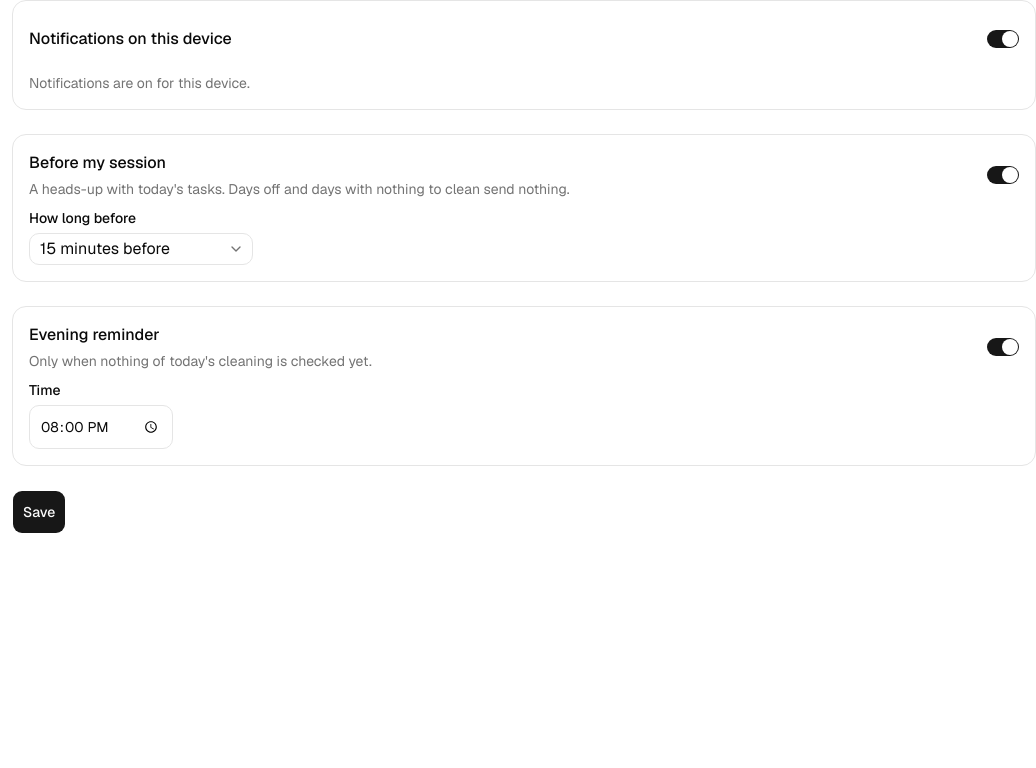
NotificationsPanel › AC7: turning off stops the browser subscription and the server's
This screenshot has width=1036, height=768.
Expected: the text "Notifications are on for this device." is shown, [29,74,250,92]
Click the switch named "Notifications on this device" in the row of "Notifications on this device" at (1003, 39), box [987,30,1019,48]
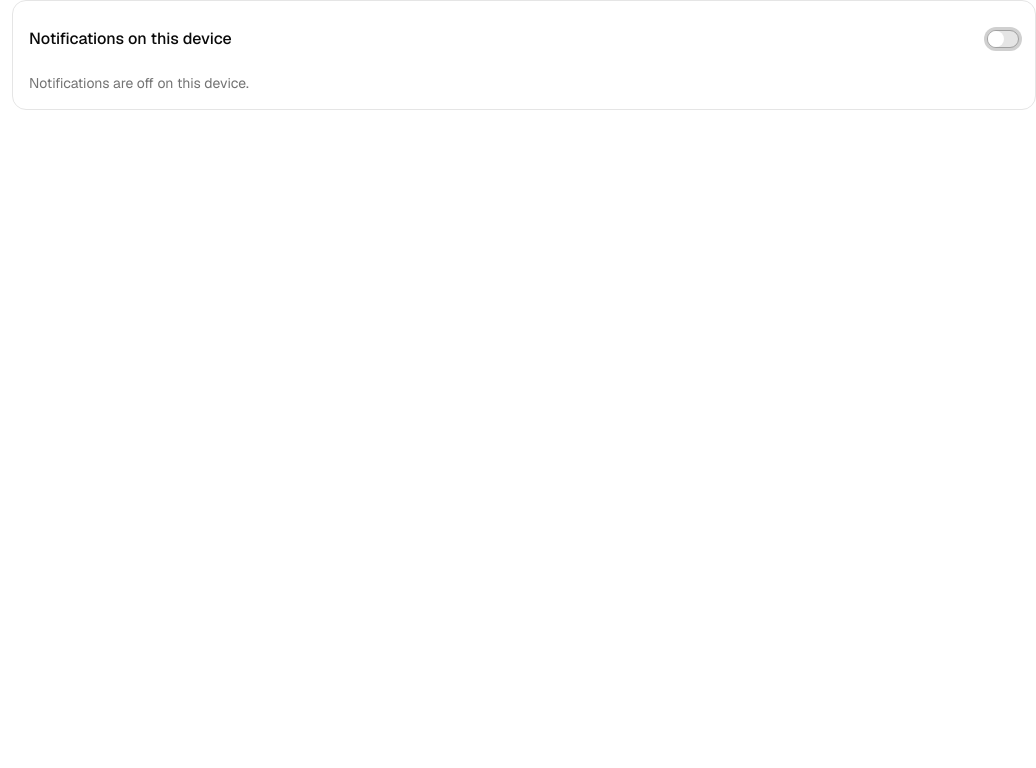
Now the text "Notifications are off on this device." is shown, box [29,74,249,92]
